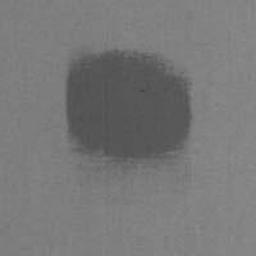Oil spot: (65, 49, 192, 174)
